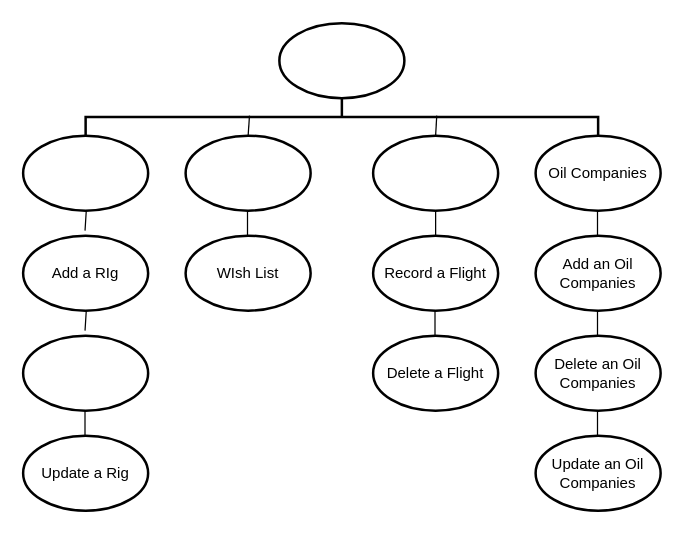
This 683x533 diagram has some shape labels left out. Each missing label, with the centre of its shape:
"Delete a Rig" belongs at point 85,372.
"Flight Tracker" belongs at point 435,172.
"Home/ Register" belongs at point 341,60.
"Oil Workers" belongs at point 247,172.
"Rigs" belongs at point 85,172.
